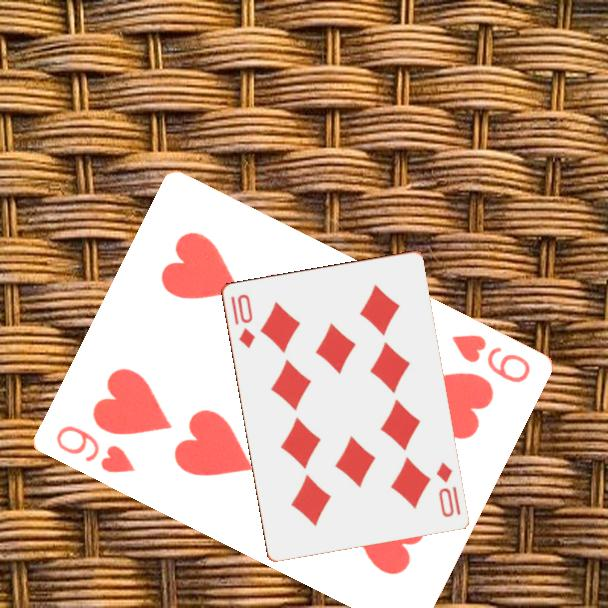d10: (432, 458, 463, 520), (227, 290, 258, 351)
h09: (447, 331, 533, 386), (51, 422, 138, 476)
